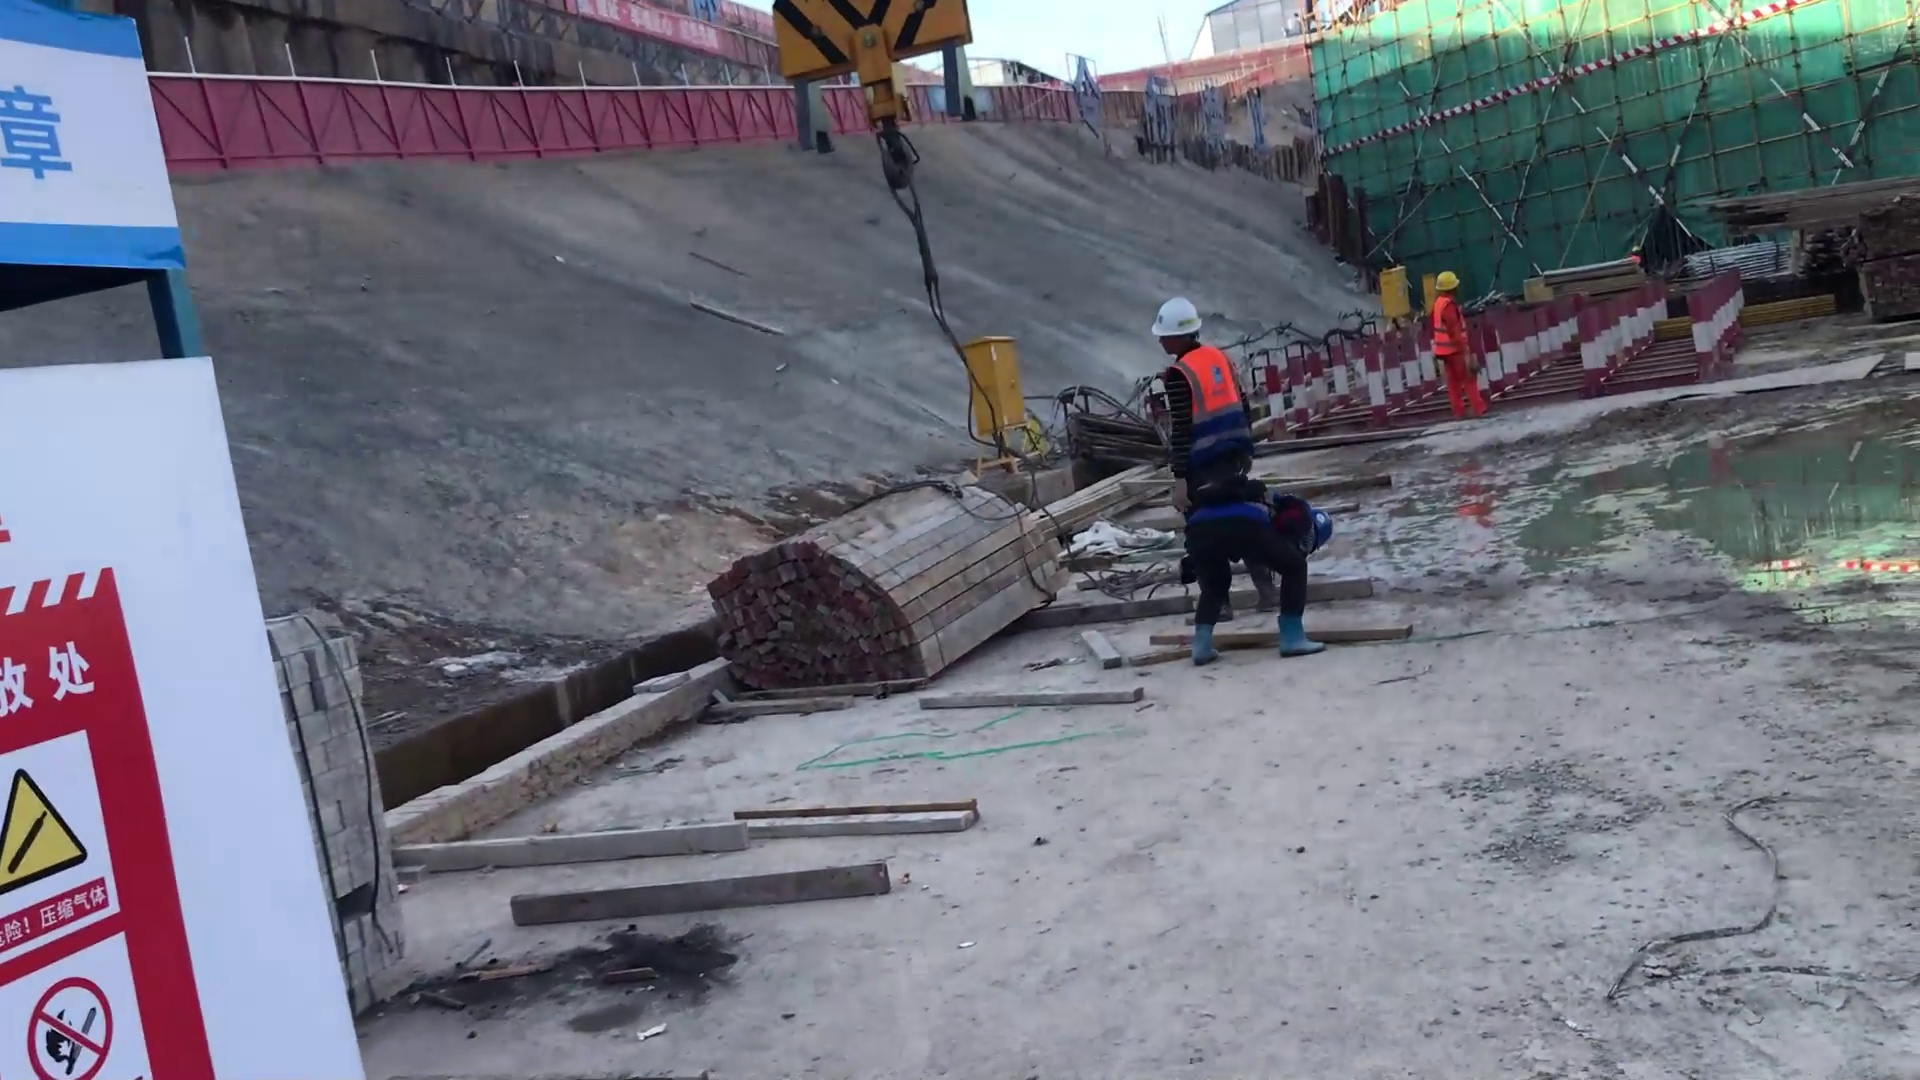brick: (237, 601, 422, 1008)
ebox: (975, 335, 1022, 439), (1370, 260, 1414, 313)
fence: (152, 65, 756, 164)
helmet: (1149, 292, 1199, 334), (1434, 264, 1456, 294)
hook: (764, 4, 973, 146)
person: (1179, 481, 1329, 672), (1148, 293, 1257, 478), (1422, 265, 1491, 417)
slogan: (1, 730, 149, 941)
vest: (1170, 347, 1241, 409), (1425, 301, 1467, 357)
wood: (717, 475, 1071, 692), (1708, 181, 1920, 236)
